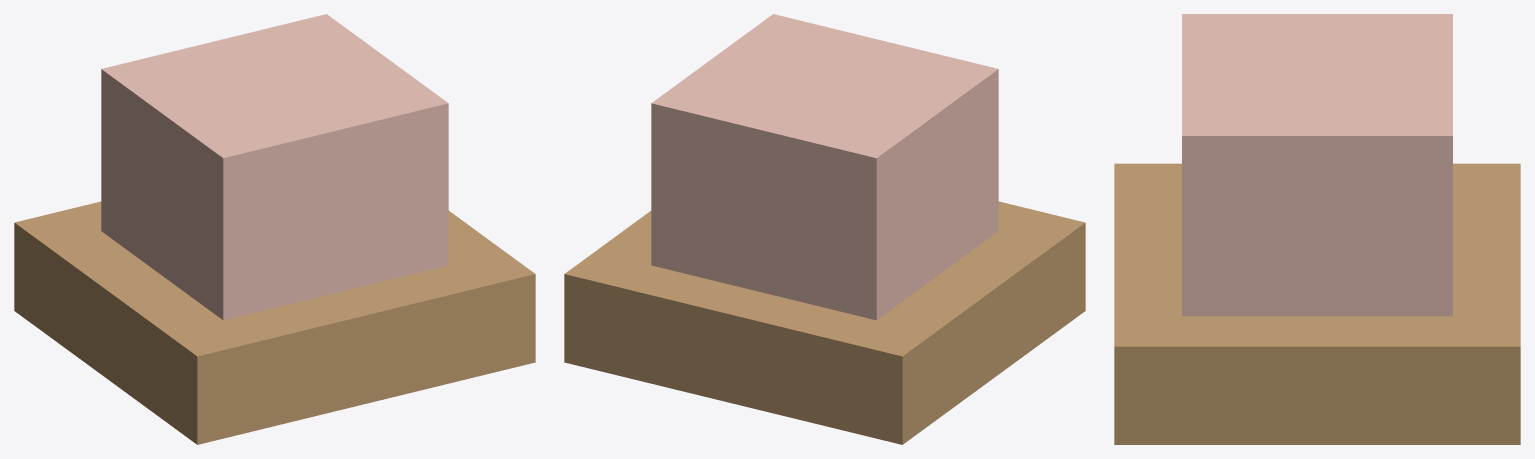
The model's file is salt-lick-block.glb.
3 renders of one model, left to right at view 1: azimuth 30°, elevation 25°; view 2: azimuth 150°, elevation 25°; view 3: azimuth 270°, elevation 25°, orthographic. The views are drawn at different scales.
Parts seen in each view (by area): view 1: salt-lick-block; view 2: salt-lick-block; view 3: salt-lick-block.
Boxes of the visible parts, x1,y1,x2,y2 form: salt-lick-block: (14, 14, 535, 444); salt-lick-block: (564, 14, 1085, 444); salt-lick-block: (1114, 14, 1520, 444).
Size of the model in its own units: 0.48 by 0.34 by 0.45.
